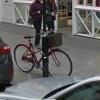Bicycle: (10, 24, 88, 81)
